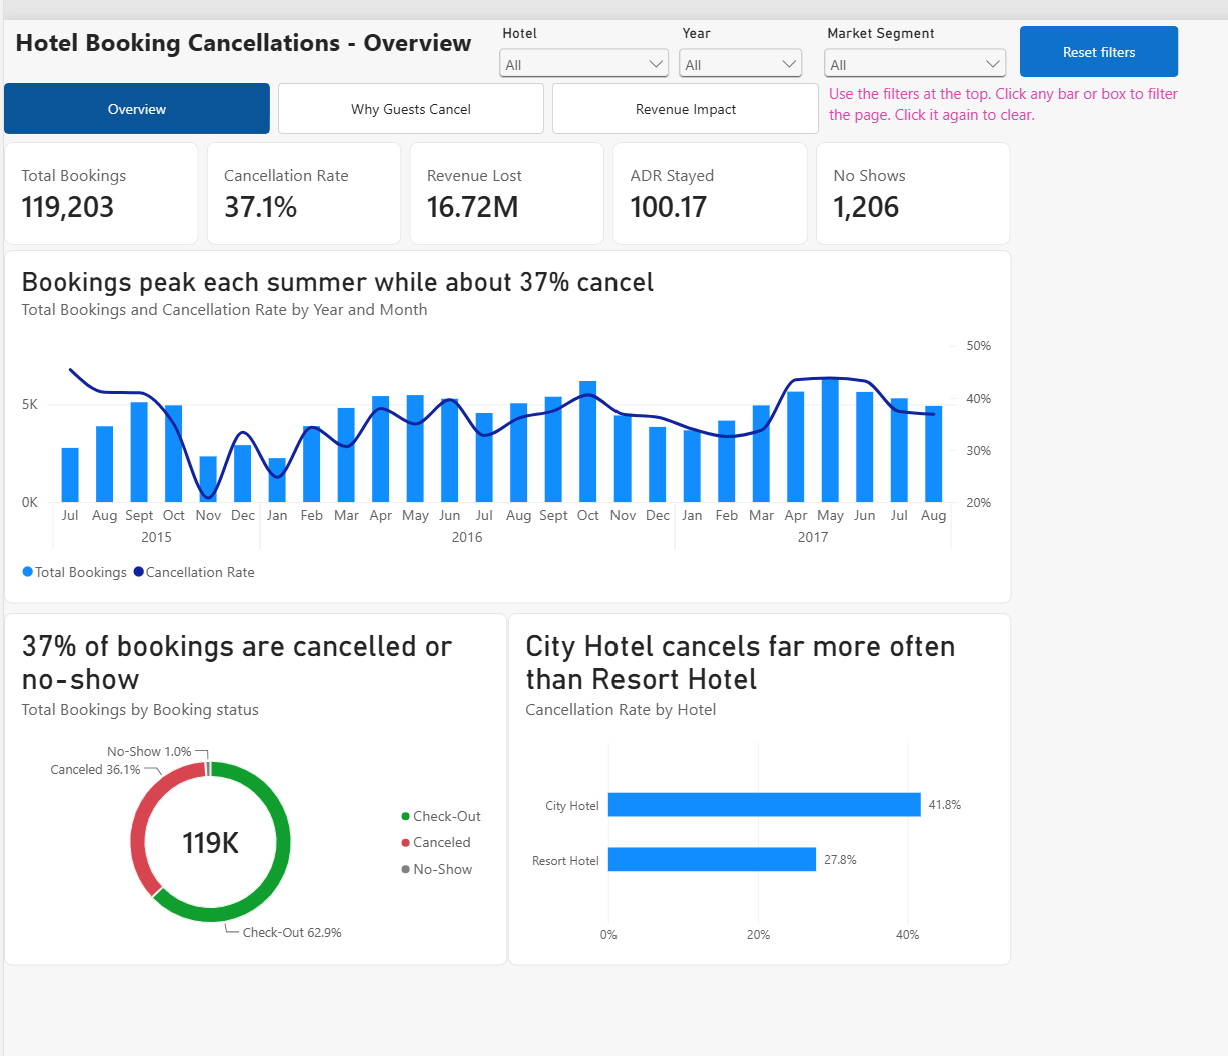

The page's visual inventory and layout, read from the dashboard file:
{"tool":"powerbi","page":{"name":"Overview","canvas":[1920,1080],"ordinal":1},"visuals":[{"type":"textbox","box":[10.5,5.2,470.3,81.9],"z":0},{"type":"slicer","fields":{"Values":["Bookings.hotel"]},"box":[480.8,5.2,176.4,73.5],"z":1000},{"type":"slicer","fields":{"Values":["Date.Year"]},"box":[657.1,5.2,131.2,68.2],"z":2000},{"type":"slicer","fields":{"Values":["Bookings.market_segment"]},"box":[798.9,5.2,189,73.5],"z":3000},{"type":"cardVisual","fields":{"Data":["_Measures.Total Bookings","_Measures.Cancellation Rate","_Measures.Revenue Lost","_Measures.ADR Stayed","_Measures.No Shows"]},"box":[0,119.4,987.8,101.8],"z":4000},{"type":"lineClusteredColumnComboChart","title":"Bookings peak each summer while about 37% cancel","fields":{"Category":["Date.Year","Date.Month"],"Y":["_Measures.Total Bookings"],"Y2":["_Measures.Cancellation Rate"]},"box":[0,225.4,987.8,346.4],"z":5000},{"type":"donutChart","title":"37% of bookings are cancelled or no-show","fields":{"Category":["Bookings.reservation_status"],"Y":["_Measures.Total Bookings"]},"box":[0,581.2,494.4,346.4],"z":6000},{"type":"clusteredBarChart","title":"City Hotel cancels far more often than Resort Hotel","fields":{"Category":["Bookings.hotel"],"Y":["_Measures.Cancellation Rate"]},"box":[494.4,581.2,493.4,346.4],"z":7000},{"type":"pageNavigator","box":[0,62.2,800,50],"z":8000},{"type":"actionButton","box":[996.7,5.6,155.6,50],"z":8001},{"type":"textbox","box":[0,930,494,150],"z":8002},{"type":"textbox","box":[808.9,62.2,343.3,50],"z":8003}]}

Visuals, with their boxes on the page's 1920x1080 design canvas (x1, y1, x2, y2). These are canvas units, not pixel positions in the 1228x1056 screenshot, which may show the page scaled, cropped or inside an application window:
textbox: (x1=10, y1=5, x2=481, y2=87)
slicer - Bookings.hotel: (x1=481, y1=5, x2=657, y2=79)
slicer - Date.Year: (x1=657, y1=5, x2=788, y2=73)
slicer - Bookings.market_segment: (x1=799, y1=5, x2=988, y2=79)
cardVisual - _Measures.Total Bookings x _Measures.Cancellation Rate: (x1=0, y1=119, x2=988, y2=221)
"Bookings peak each summer while about 37% cancel" lineClusteredColumnComboChart: (x1=0, y1=225, x2=988, y2=572)
"37% of bookings are cancelled or no-show" donutChart: (x1=0, y1=581, x2=494, y2=928)
"City Hotel cancels far more often than Resort Hotel" clusteredBarChart: (x1=494, y1=581, x2=988, y2=928)
pageNavigator: (x1=0, y1=62, x2=800, y2=112)
actionButton: (x1=997, y1=6, x2=1152, y2=56)
textbox: (x1=0, y1=930, x2=494, y2=1080)
textbox: (x1=809, y1=62, x2=1152, y2=112)
